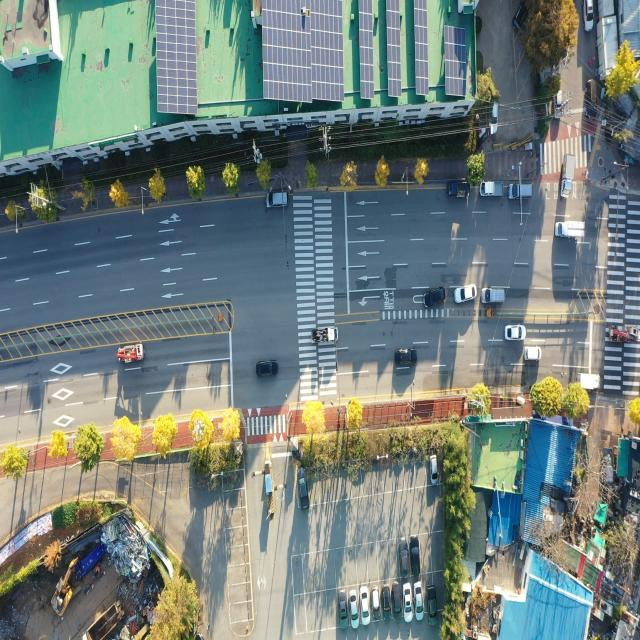car: (508, 182, 534, 200), (396, 349, 417, 368), (424, 288, 446, 306), (482, 288, 506, 304), (398, 539, 408, 577), (512, 2, 525, 31), (258, 359, 280, 376), (267, 190, 289, 207), (298, 466, 308, 503), (456, 285, 476, 303), (412, 539, 421, 577), (392, 582, 401, 620), (490, 100, 499, 134), (350, 589, 358, 627), (406, 582, 414, 620), (428, 584, 436, 622), (506, 325, 526, 340), (383, 584, 391, 619), (555, 90, 564, 119), (341, 588, 348, 625), (586, 0, 594, 32), (416, 585, 423, 621), (361, 588, 368, 624), (524, 347, 542, 360), (371, 586, 378, 617), (430, 456, 437, 484)
medium_truck: (80, 599, 128, 640)
small_truck: (608, 318, 638, 346), (560, 156, 574, 202), (587, 76, 599, 127), (554, 220, 586, 239), (118, 344, 146, 364), (310, 326, 338, 344), (578, 372, 601, 391), (482, 184, 506, 201), (448, 182, 470, 199)
